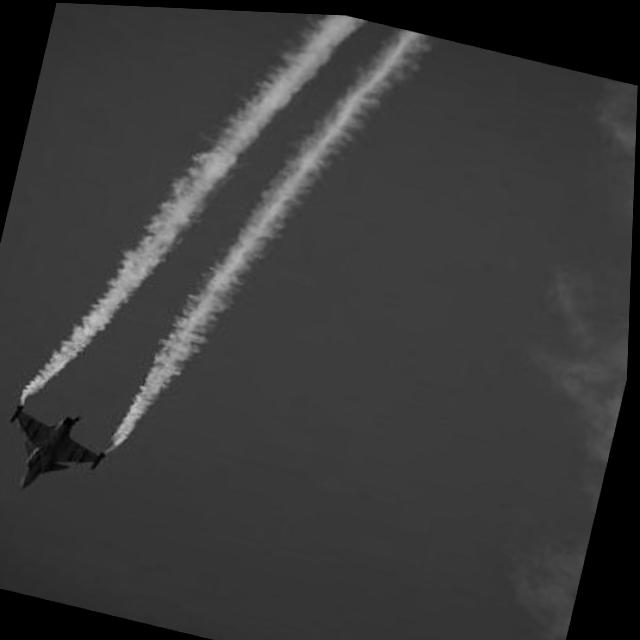aeroplane: (0, 398, 114, 504)
